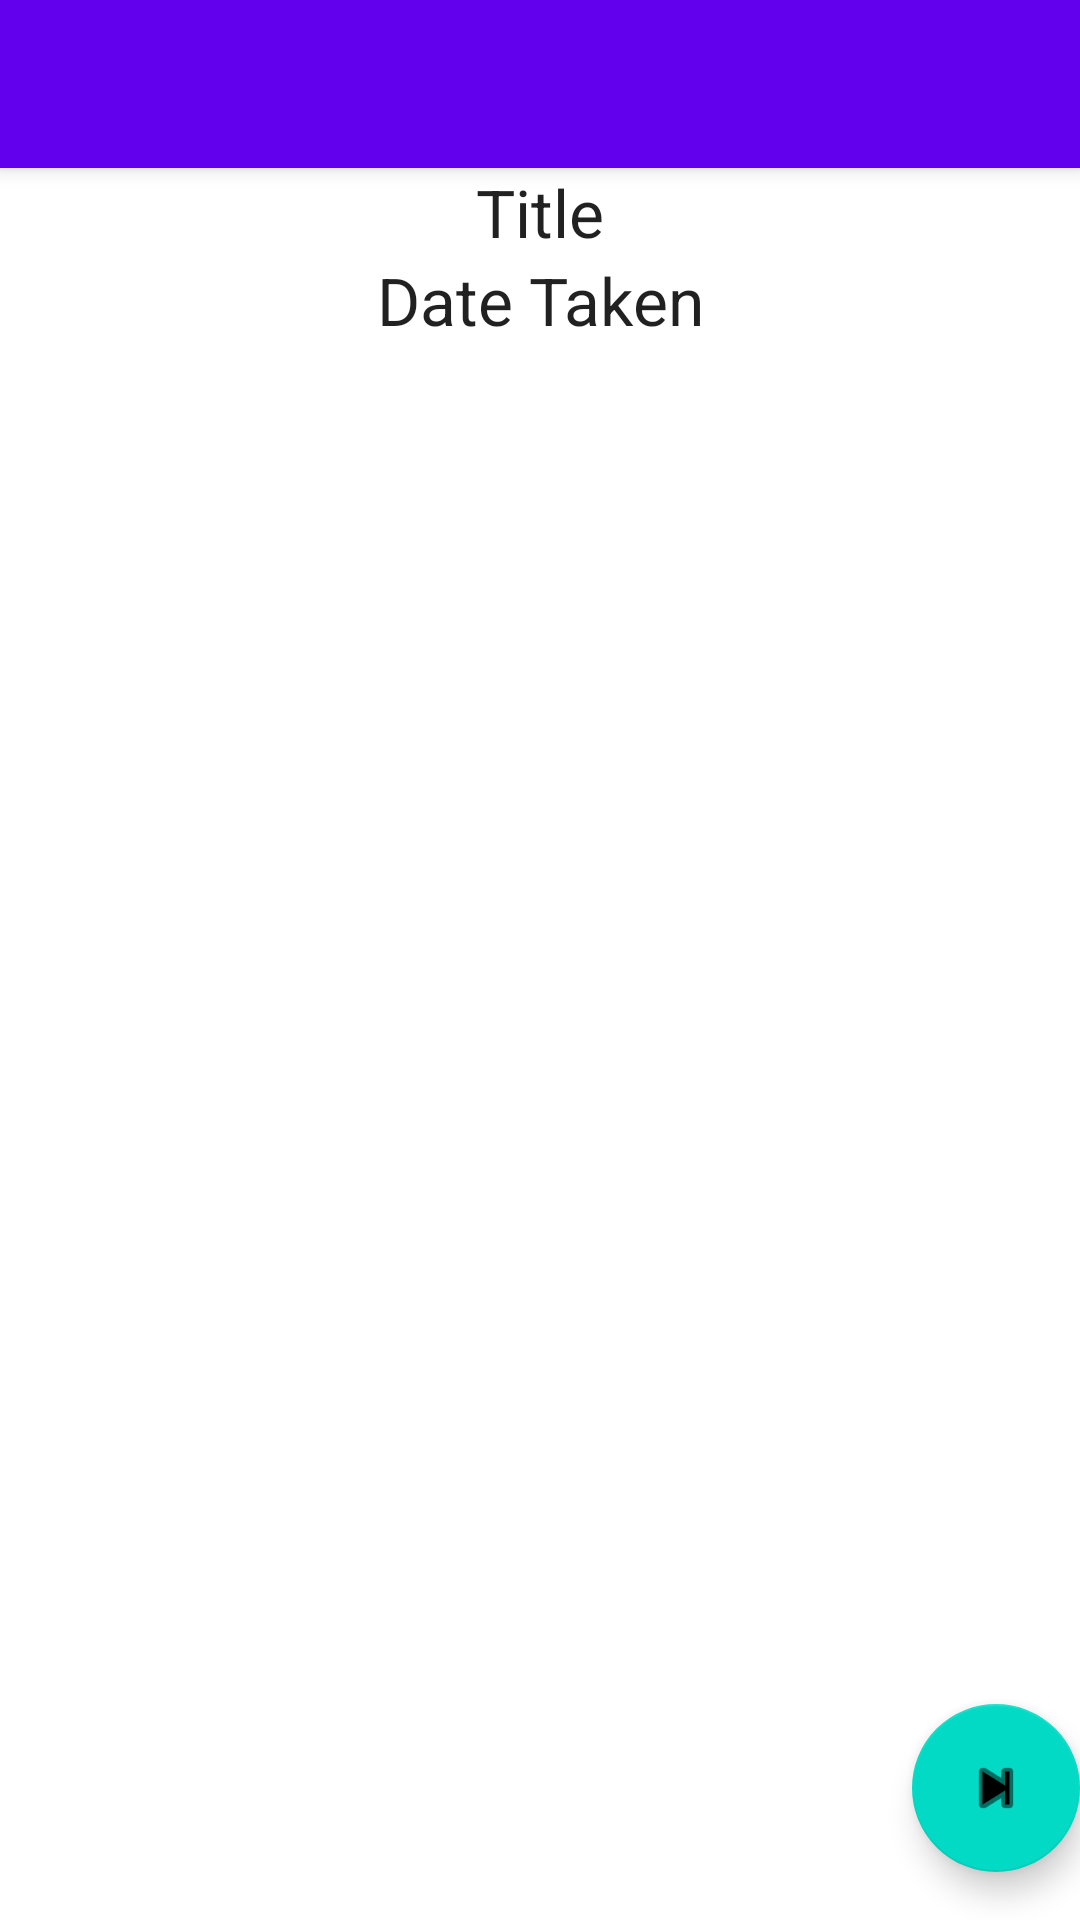

Where icons sit on this 1080 × 1920 app screen, as (x1=x1, y1=y1, x2=x2, y2=y2):
next: (x1=912, y1=1704, x2=1080, y2=1872)
